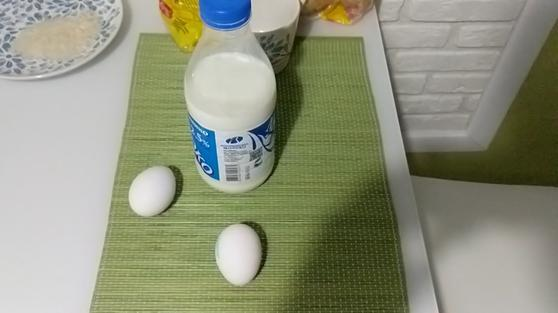egg: (205, 218, 268, 292), (125, 160, 180, 221)
milk: (175, 1, 291, 202)
rice: (8, 13, 104, 66)
